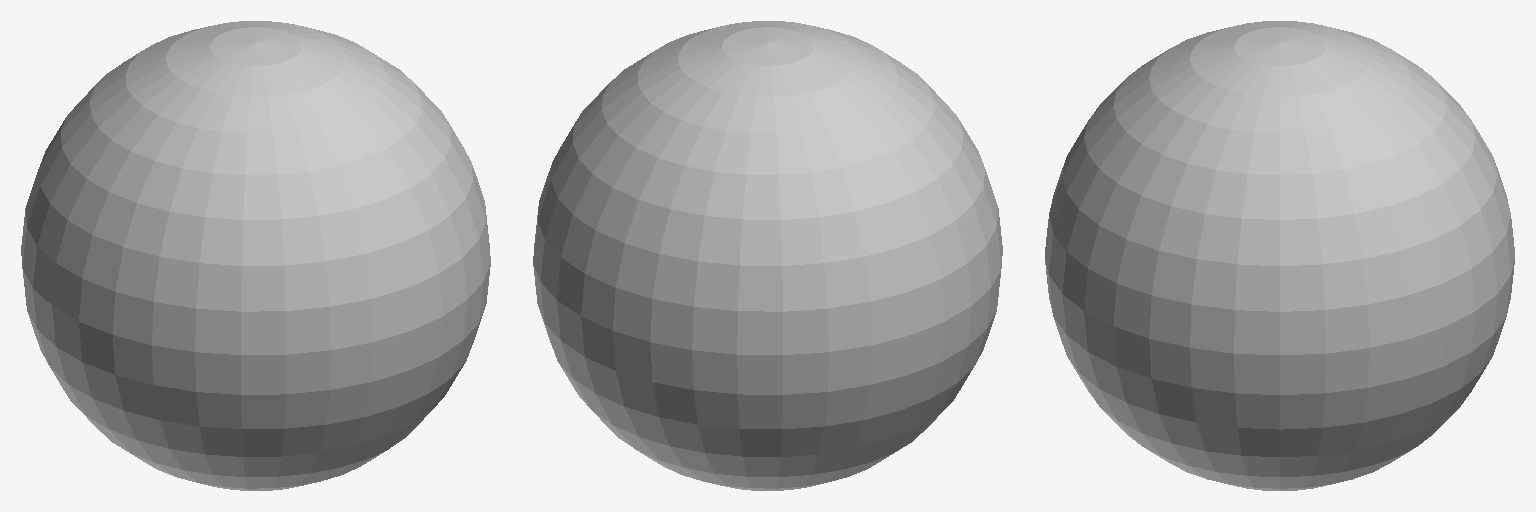
The model's file is bullet_FULL.obj.
3 renders of one model, left to right at view 1: azimuth 30°, elevation 25°; view 2: azimuth 150°, elevation 25°; view 3: azimuth 270°, elevation 25°, orthographic.
Parts seen in each view (by area): view 1: Sphere; view 2: Sphere; view 3: Sphere.
Boxes of the visible parts, box(x1,y1,x2,y2) form: Sphere: box(21, 21, 490, 490); Sphere: box(533, 21, 1002, 490); Sphere: box(1045, 21, 1514, 490).
Size of the model in its own units: 0.4695 by 0.4695 by 0.4695.